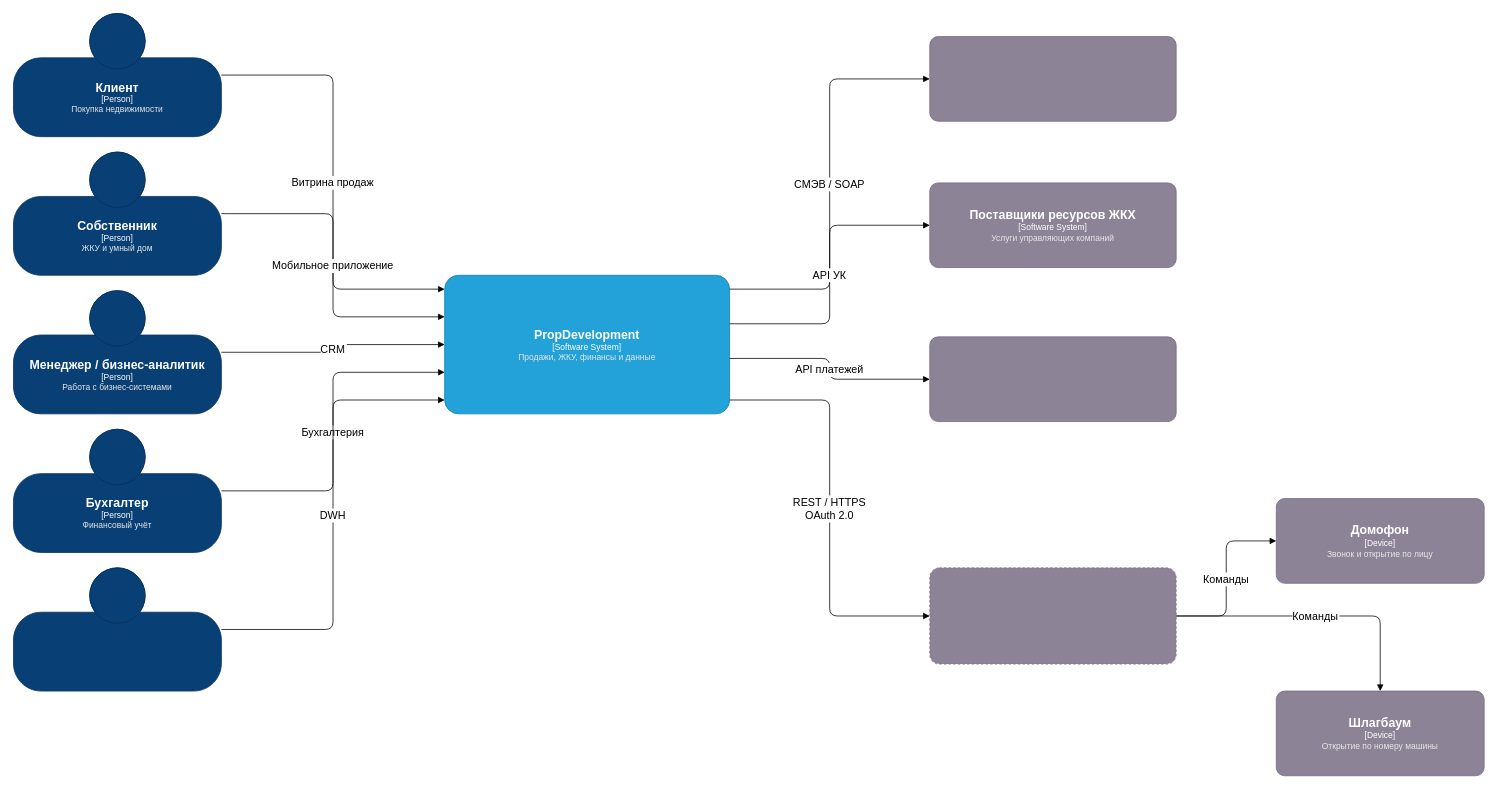
The diagram is 1498 pixels wide and 789 high, and some of its shapes have lost their labels. Each missing label, with the box of its shape:
Аналитик BI [Person] Анализ и отчётность: (13, 567, 221, 691)
Госорганы [Software System] Регистрация недвижимости: (929, 36, 1176, 121)
Партнёр «Умный дом» [Software System, новый] Распознавание лица и номера: (929, 567, 1176, 664)
Платёжная система [Software System] Онлайн-платежи: (929, 336, 1176, 422)
